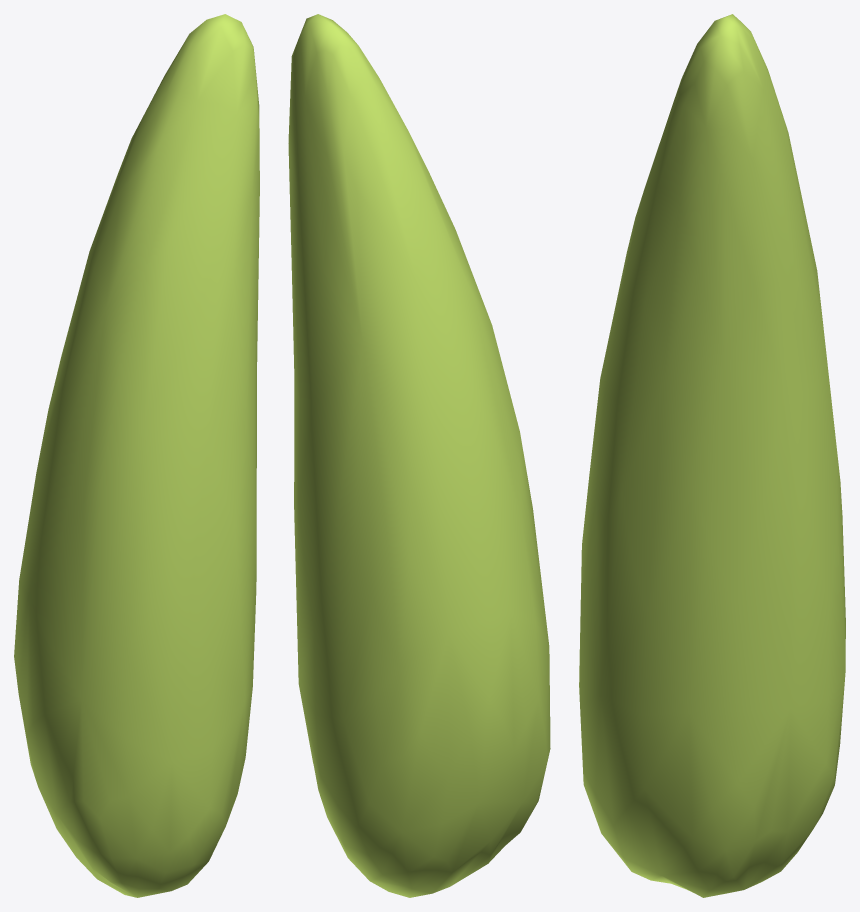
File: BushTree_H.fbx
The picture shows the model from 3 angles, left to right: view 1: azimuth 30°, elevation 25°; view 2: azimuth 150°, elevation 25°; view 3: azimuth 270°, elevation 25°; orthographic projection. The views are drawn at different scales.
Parts seen in each view (by area): view 1: Thuja_BushTree_m_08; view 2: Thuja_BushTree_m_08; view 3: Thuja_BushTree_m_08.
Boxes of the visible parts, x1,y1,x2,y2 form: Thuja_BushTree_m_08: (14, 14, 259, 897); Thuja_BushTree_m_08: (288, 14, 550, 897); Thuja_BushTree_m_08: (579, 14, 845, 897).
Size of the model in its own units: 114 by 405 by 106.
